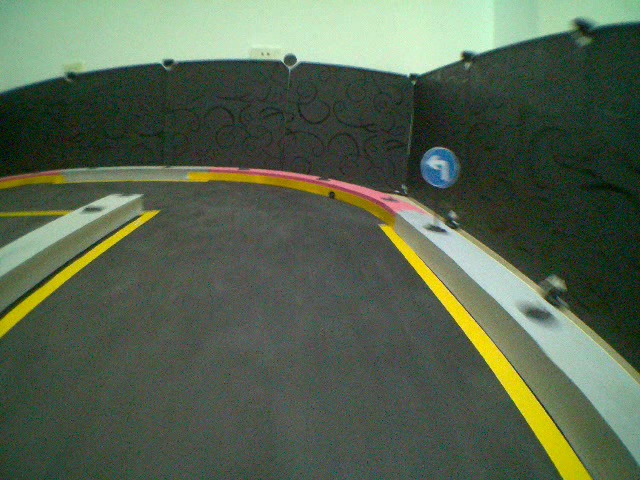turn: (419, 144, 462, 190)
